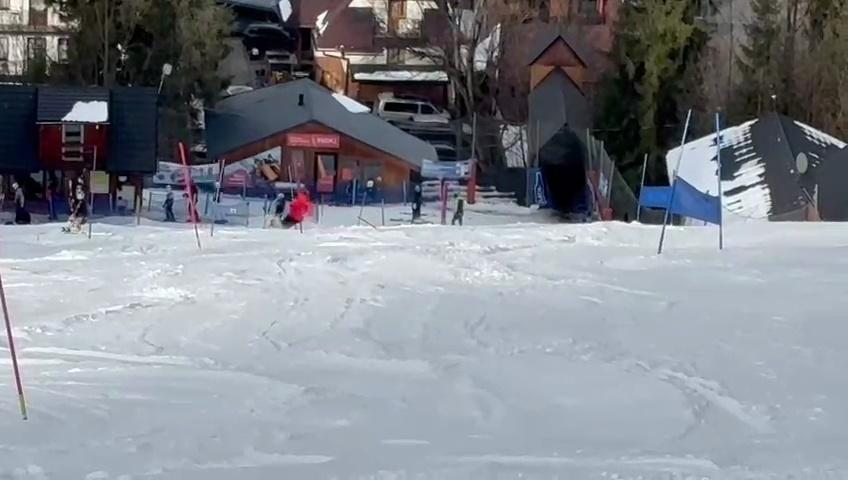gate: (661, 100, 693, 282), (0, 272, 36, 417), (176, 141, 204, 251), (712, 106, 727, 252), (635, 150, 650, 231), (89, 145, 100, 242)
